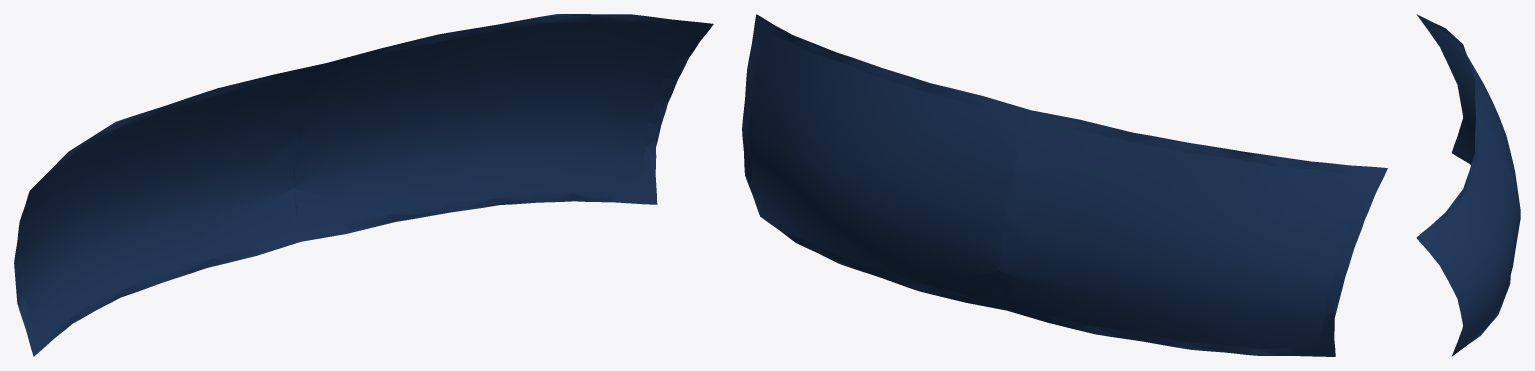
Rendered from GEO_Front_Bumper.glb.
3 renders of one model, left to right at view 1: azimuth 30°, elevation 25°; view 2: azimuth 150°, elevation 25°; view 3: azimuth 270°, elevation 25°, orthographic. The views are drawn at different scales.
Parts seen in each view (by area): view 1: GEO_Front_Bumper; view 2: GEO_Front_Bumper; view 3: GEO_Front_Bumper.
Part boxes in pixels (left/top/right/bottom): GEO_Front_Bumper: left=14, top=14, right=713, bottom=356; GEO_Front_Bumper: left=742, top=14, right=1387, bottom=356; GEO_Front_Bumper: left=1416, top=14, right=1520, bottom=356.
Size of the model in its own units: 1.8 by 0.5197 by 0.3551.
